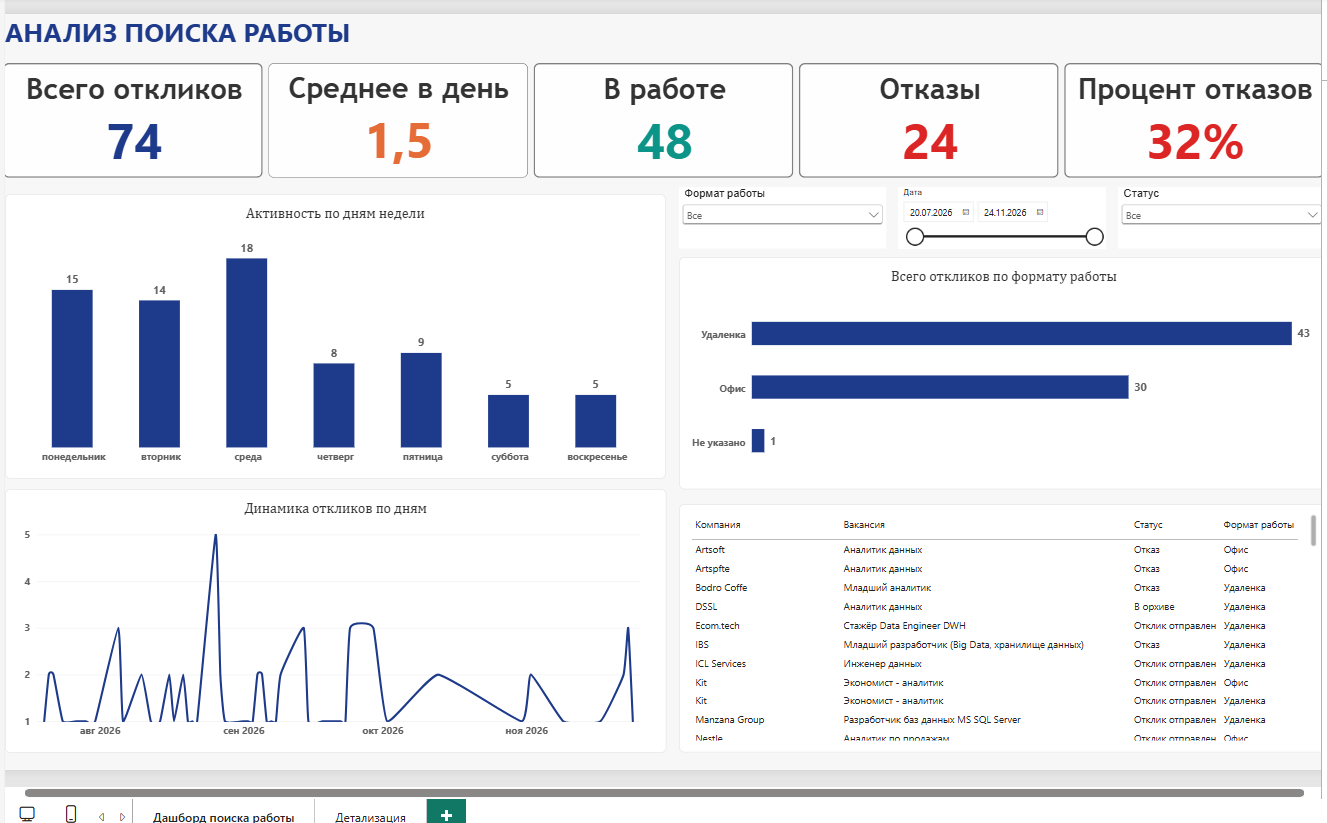

The page's visual inventory and layout, read from the dashboard file:
{"tool":"powerbi","page":{"name":"Дашборд поиска работы","canvas":[1920,1080],"ordinal":0},"visuals":[{"type":"cardVisual","fields":{"Data":["DAX.Всего откликов","DAX.В работе","DAX.Отказы","DAX.Процент отказов","DAX.Среднее в день"]},"box":[13,69.6,1889.4,164.9],"z":0},{"type":"pieChart","title":"Всего откликов по формату работы","fields":{"Category":["Таблица откликов.Формат работы"],"Y":["DAX.Всего откликов"]},"box":[976.8,347.8,926.1,330.4],"z":1000},{"type":"lineChart","title":"Всего откликов по Дате","fields":{"Category":["Таблица откликов.Дата"],"Y":["DAX.Всего откликов"]},"box":[15.9,678.3,944.9,376.8],"z":2000},{"type":"tableEx","fields":{"Values":["Таблица откликов.Компания","Таблица откликов.Вакансия ","Таблица откликов.Статус","Таблица откликов.Формат работы"]},"box":[978.3,700,927.5,355.1],"z":3000},{"type":"columnChart","fields":{"Category":["Таблица откликов.День недели","Таблица откликов.Номер дня недели"],"Y":["DAX.Всего откликов"]},"box":[15.9,256.5,944,407.1],"z":4000},{"type":"slicer","fields":{"Values":["Таблица откликов.Дата"]},"box":[1292.8,256.5,296.2,89],"z":5000},{"type":"slicer","fields":{"Values":["Таблица откликов.Статус"]},"box":[1607.2,256.5,296.2,89],"z":6000},{"type":"slicer","fields":{"Values":["Таблица откликов.Формат работы"]},"box":[976.8,256.5,296.2,89],"z":7000},{"type":"textbox","box":[100,100,300,300],"z":8000},{"type":"textbox","box":[15.9,0,898.6,56.5],"z":8001}]}

Visuals, with their boxes on the page's 1920x1080 design canvas (x1, y1, x2, y2). These are canvas units, not pixel positions in the 1327x823 screenshot, which may show the page scaled, cropped or inside an application window:
cardVisual - DAX.Всего откликов x DAX.В работе: (left=13, top=70, right=1902, bottom=234)
"Всего откликов по формату работы" pieChart: (left=977, top=348, right=1903, bottom=678)
"Всего откликов по Дате" lineChart: (left=16, top=678, right=961, bottom=1055)
tableEx - Таблица откликов.Компания x Таблица откликов.Вакансия : (left=978, top=700, right=1906, bottom=1055)
columnChart - Таблица откликов.День недели x Таблица откликов.Номер дня недели: (left=16, top=256, right=960, bottom=664)
slicer - Таблица откликов.Дата: (left=1293, top=256, right=1589, bottom=346)
slicer - Таблица откликов.Статус: (left=1607, top=256, right=1903, bottom=346)
slicer - Таблица откликов.Формат работы: (left=977, top=256, right=1273, bottom=346)
textbox: (left=100, top=100, right=400, bottom=400)
textbox: (left=16, top=0, right=914, bottom=56)
